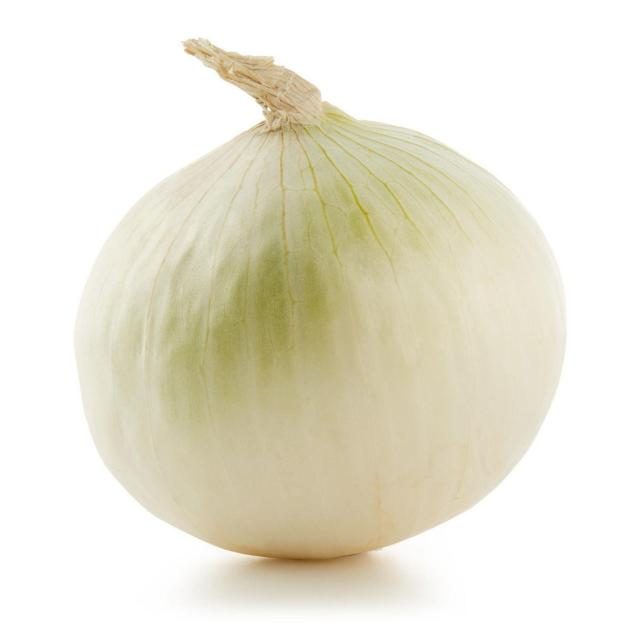Onion: (77, 34, 567, 562)
